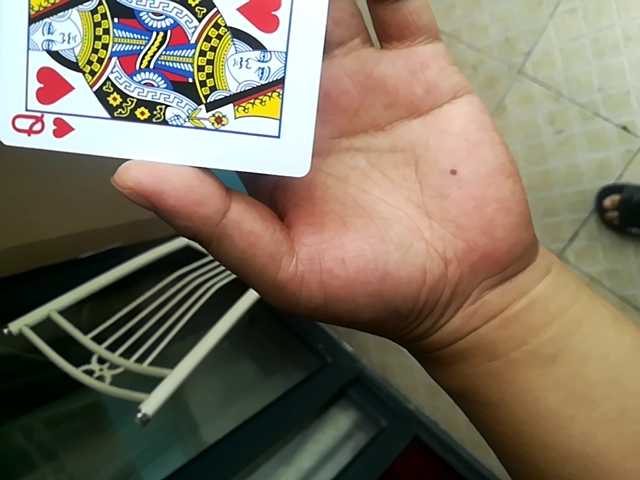hx q: (2, 1, 334, 187)
